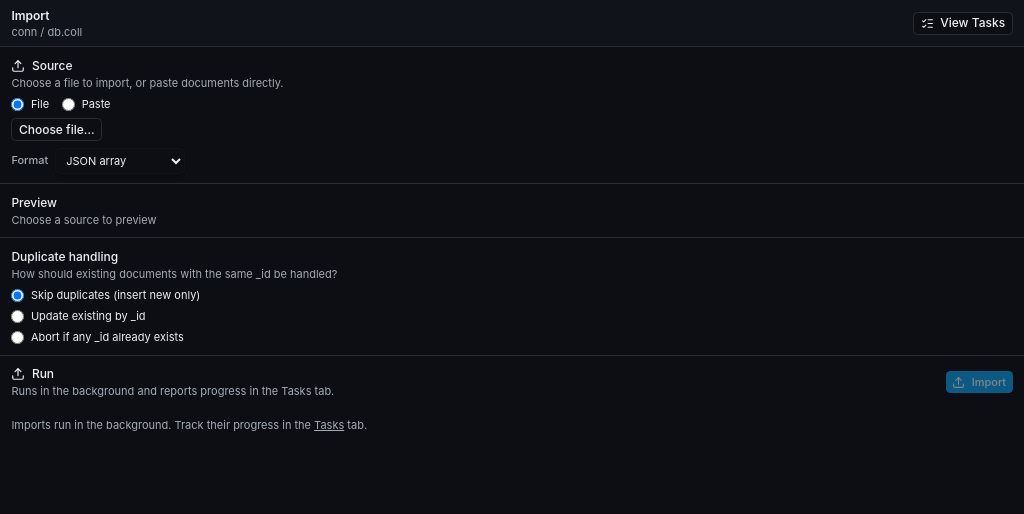
Test: ImportView sources and options › detects format from the picked file and allows override
Click the button with test id "import-pick-file-btn" at x=57, y=130, box [11,118,102,141]
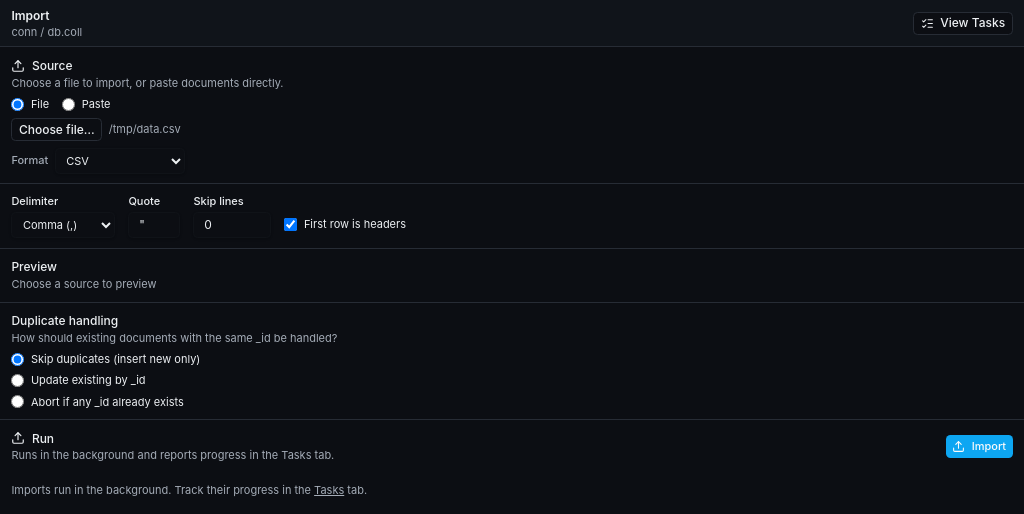
Expected: the text with test id "import-file-path" reads "/tmp/data.csv", [109,122,181,136]
Expected: the dropdown with test id "import-format-select" shows "CSV"
Select "NDJSON" in the dropdown with test id "import-format-select" at x=120, y=160, box [55,148,185,174]
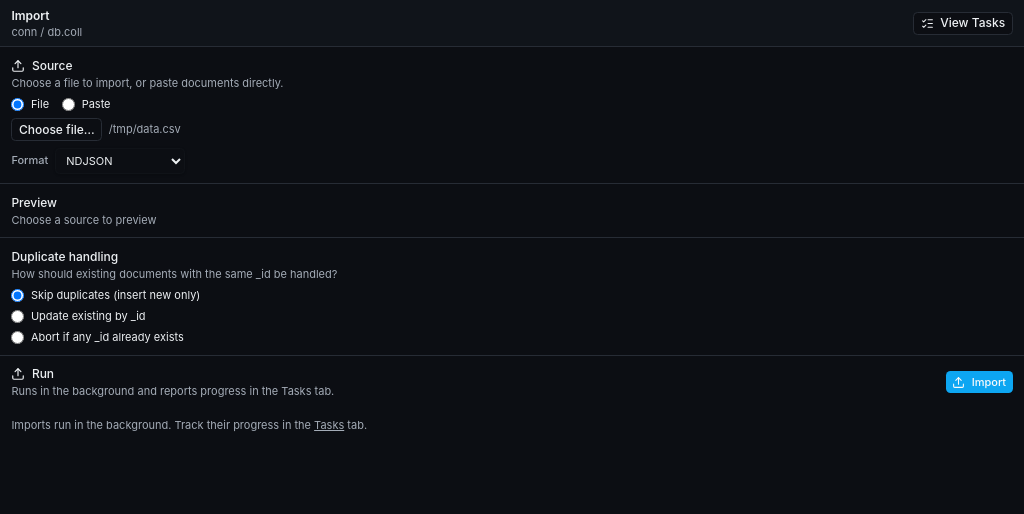
Expected: the dropdown with test id "import-csv-delimiter" is gone
